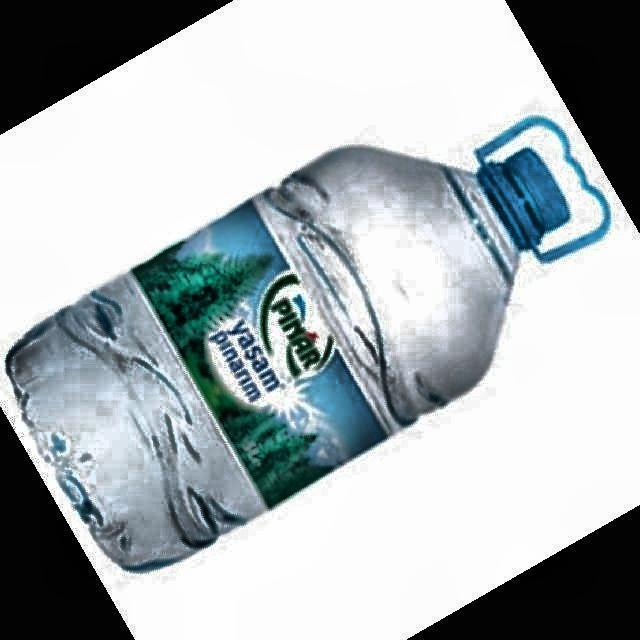plastic: (8, 118, 610, 569)
